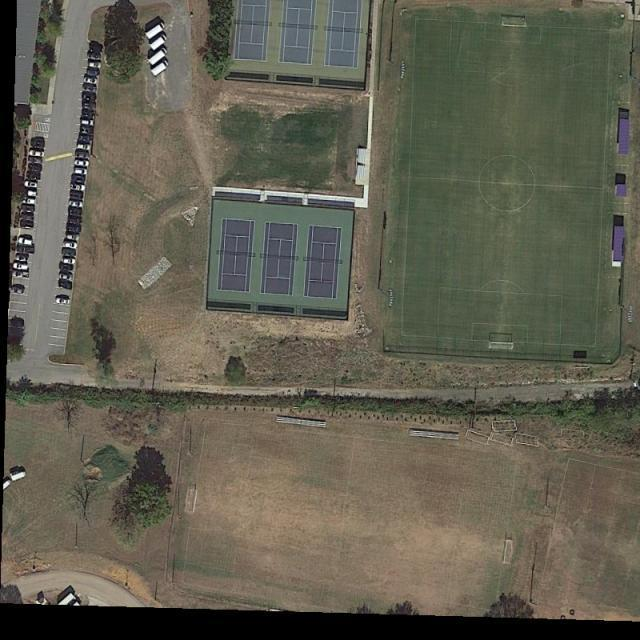vehicle: (148, 46, 169, 65), (149, 59, 170, 78), (145, 22, 166, 39), (149, 34, 169, 51), (56, 279, 74, 292), (10, 318, 26, 330), (12, 262, 29, 272), (20, 188, 37, 198), (30, 138, 45, 149), (12, 270, 30, 279), (18, 220, 34, 230), (62, 240, 78, 250), (75, 151, 91, 161), (78, 134, 94, 144), (69, 207, 83, 218), (60, 248, 77, 257), (66, 225, 83, 234), (27, 157, 44, 166), (16, 246, 35, 254), (70, 191, 85, 201), (17, 237, 33, 246), (26, 171, 42, 180), (82, 92, 98, 101), (82, 85, 98, 94), (8, 285, 24, 294), (58, 263, 75, 271), (29, 150, 46, 158), (24, 180, 39, 189), (59, 273, 74, 282), (27, 164, 42, 173), (83, 76, 98, 85), (72, 175, 86, 184), (14, 254, 29, 262), (67, 217, 82, 225), (70, 183, 85, 191), (18, 213, 34, 220), (55, 298, 71, 305), (90, 43, 104, 51), (74, 168, 88, 176), (74, 160, 90, 167), (81, 109, 95, 117), (86, 53, 102, 60), (61, 258, 76, 265), (66, 234, 81, 241), (68, 200, 83, 207), (22, 198, 36, 205), (21, 206, 35, 213), (81, 119, 95, 126), (82, 102, 96, 109), (90, 61, 102, 69), (81, 127, 94, 134), (86, 69, 99, 76), (78, 144, 92, 150)
